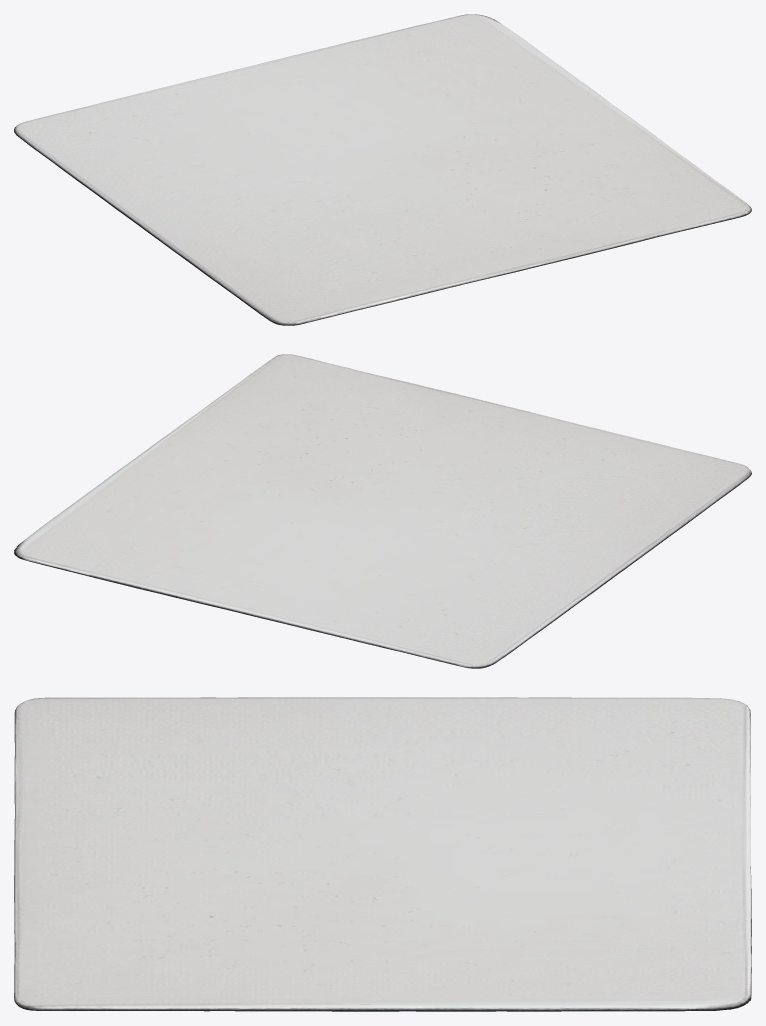
Rendered from ast_9b81d305c7aa.glb.
The picture shows the model from 3 angles, top to bottom: view 1: azimuth 30°, elevation 25°; view 2: azimuth 150°, elevation 25°; view 3: azimuth 270°, elevation 25°; orthographic projection. The views are drawn at different scales.
Visible parts, largest first — view 1: geometry_0; view 2: geometry_0; view 3: geometry_0.
Part boxes in pixels (x1,y1,x2,y2): geometry_0: (14, 14, 751, 325); geometry_0: (14, 354, 751, 668); geometry_0: (14, 697, 751, 1011).
Size of the model in its own units: 0.9981 by 0.00835 by 0.998.
Materials: 1 (1 with a texture image).
